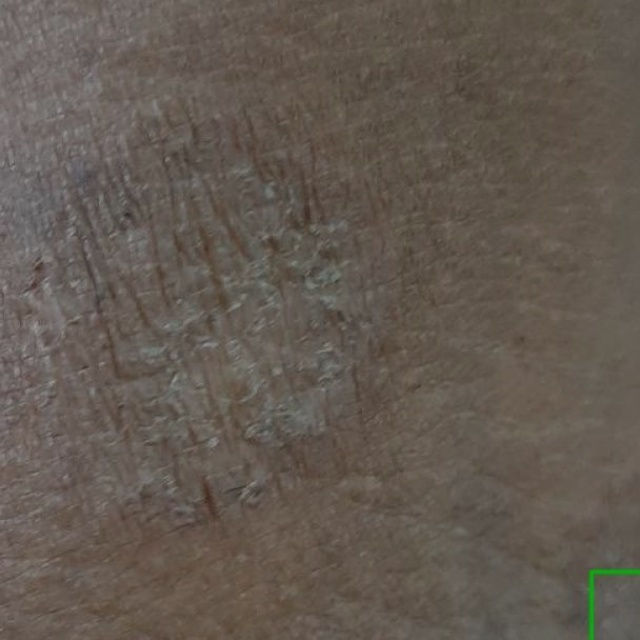Tinea Corporis: (591, 571, 639, 639)
